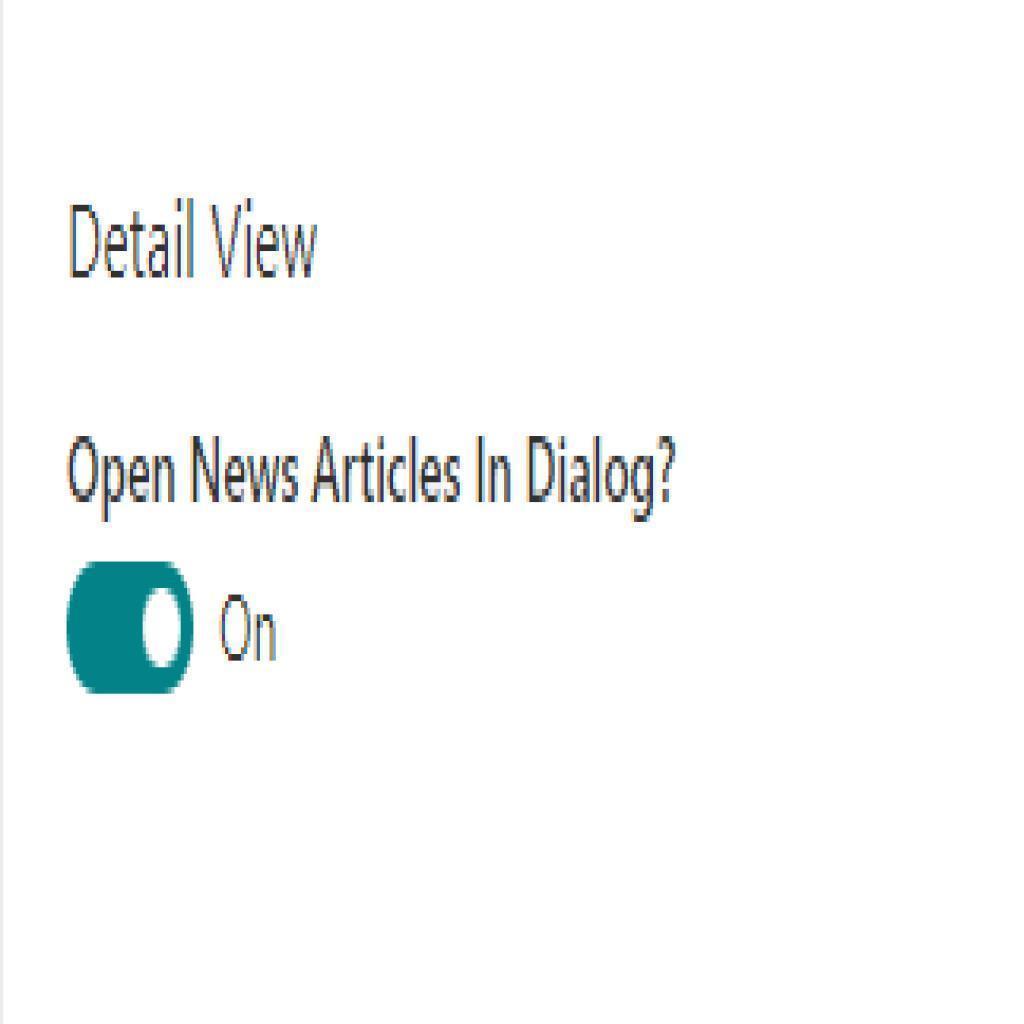switch: (61, 559, 200, 699)
